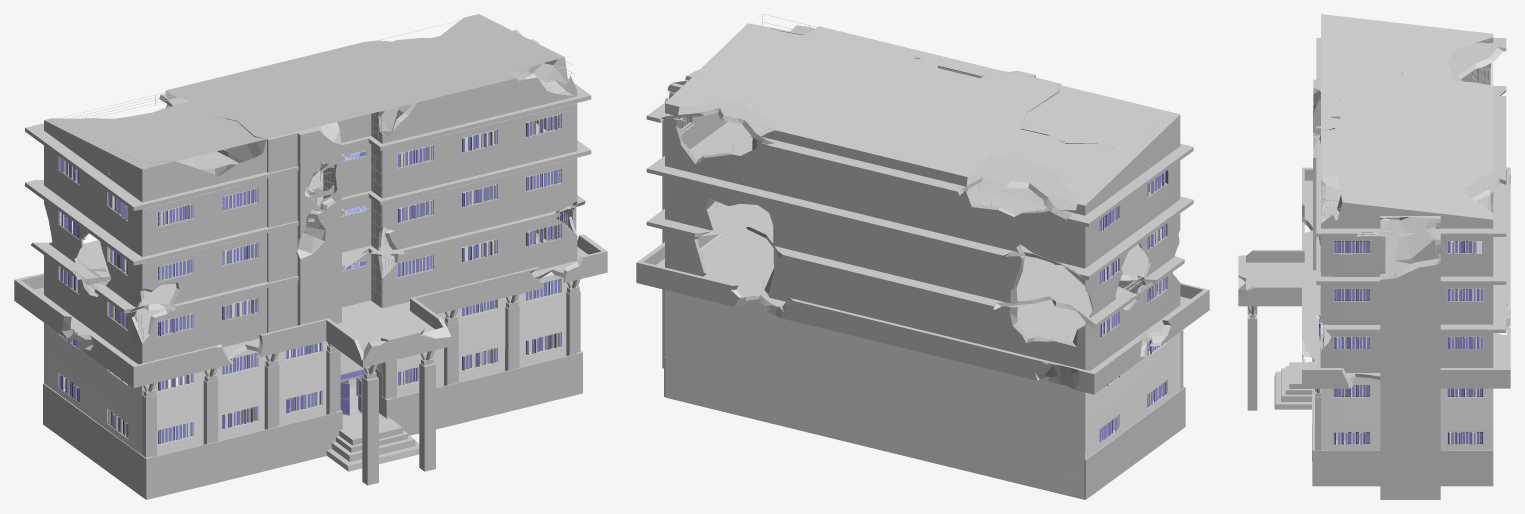
Rendered from CityCollege.fbx.
The picture shows the model from 3 angles, left to right: view 1: azimuth 30°, elevation 25°; view 2: azimuth 150°, elevation 25°; view 3: azimuth 270°, elevation 25°; orthographic projection. The views are drawn at different scales.
Visible parts, largest first — view 1: Demolished 3-5th floor, 1st and 2nd, 1st.009, 1st.005, Wireframe of building, Stairs, Cylinder.001, Cylinder.002, Cylinder.005, Cylinder.004, Cylinder.003, Cylinder.006 (+1 smaller); view 2: Demolished 3-5th floor, 1st and 2nd, 1st.005, 1st.009, Wireframe of building; view 3: Demolished 3-5th floor, 1st.005, 1st and 2nd, 1st.009, Stairs, Cylinder.003, Wireframe of building, Cylinder.002.
Boxes of the visible parts, x1=… form: Demolished 3-5th floor: x1=25, y1=14, x2=591, y2=364; 1st and 2nd: x1=44, y1=275, x2=573, y2=455; 1st.009: x1=43, y1=351, x2=582, y2=499; 1st.005: x1=14, y1=231, x2=607, y2=387; Wireframe of building: x1=59, y1=20, x2=586, y2=338; Stairs: x1=326, y1=415, x2=419, y2=471; Cylinder.001: x1=142, y1=367, x2=218, y2=457; Cylinder.002: x1=505, y1=279, x2=580, y2=370; Cylinder.005: x1=264, y1=342, x2=340, y2=429; Cylinder.004: x1=362, y1=364, x2=378, y2=485; Cylinder.003: x1=419, y1=350, x2=435, y2=471; Cylinder.006: x1=382, y1=309, x2=458, y2=398; Demolished 3-5th floor: x1=646, y1=23, x2=1193, y2=370; 1st and 2nd: x1=665, y1=290, x2=1180, y2=499; 1st.005: x1=636, y1=230, x2=1209, y2=394; 1st.009: x1=664, y1=357, x2=1185, y2=499; Wireframe of building: x1=661, y1=14, x2=1176, y2=340; Demolished 3-5th floor: x1=1313, y1=14, x2=1506, y2=499; 1st.005: x1=1238, y1=167, x2=1510, y2=388; 1st and 2nd: x1=1320, y1=377, x2=1493, y2=450; 1st.009: x1=1312, y1=358, x2=1493, y2=486; Stairs: x1=1274, y1=362, x2=1312, y2=409; Cylinder.003: x1=1247, y1=306, x2=1257, y2=410; Wireframe of building: x1=1313, y1=40, x2=1504, y2=348; Cylinder.002: x1=1313, y1=359, x2=1320, y2=450.
Bounding box in the file's own units: 8693 × 5631 × 4810.
